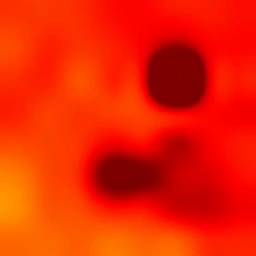person: (97, 134, 223, 216)
